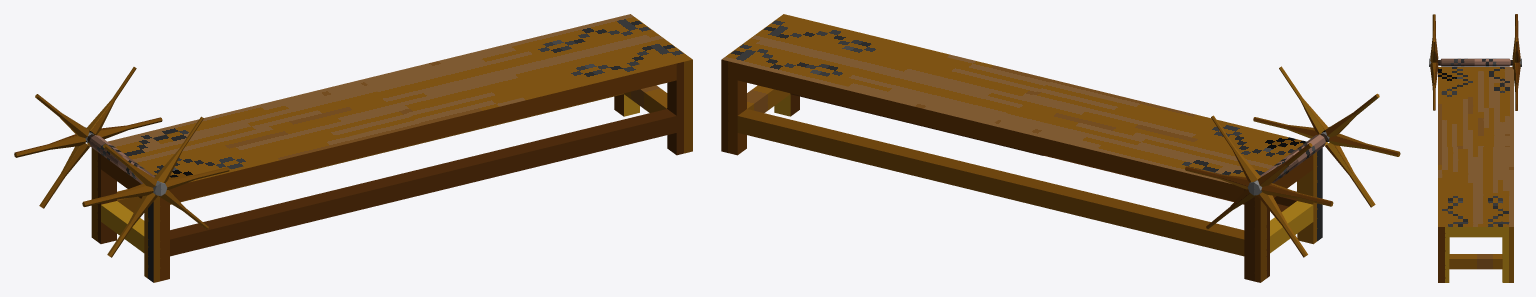
Rendered from the_rack_813x00.gltf.
The picture shows the model from 3 angles, left to right: view 1: azimuth 30°, elevation 25°; view 2: azimuth 150°, elevation 25°; view 3: azimuth 270°, elevation 25°; orthographic projection. The views are drawn at different scales.
Visible parts, largest first — view 1: the_rack_813x00; view 2: the_rack_813x00; view 3: the_rack_813x00.
Part boxes in pixels (bbox=[...]): the_rack_813x00: bbox=[14, 14, 692, 282]; the_rack_813x00: bbox=[721, 14, 1400, 282]; the_rack_813x00: bbox=[1429, 14, 1521, 282].
Size of the model in its own units: 11.37 by 2.8 by 2.45.
Materials: 1 (1 with a texture image).
